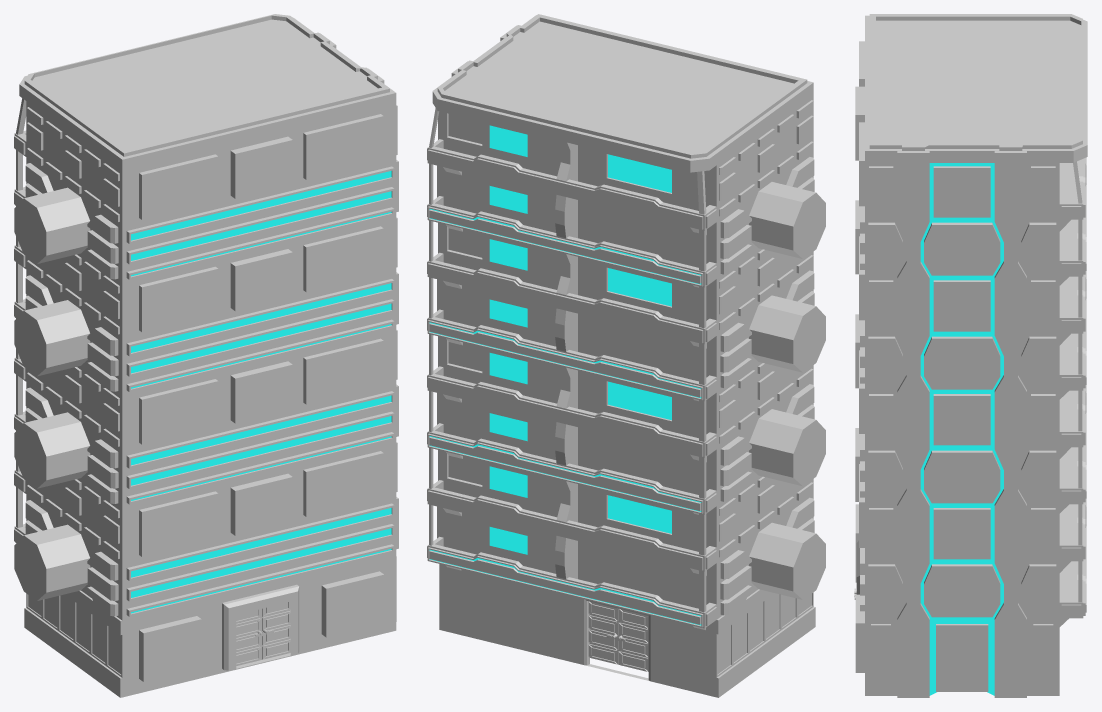
Rendered from building3.glb.
3 renders of one model, left to right at view 1: azimuth 30°, elevation 25°; view 2: azimuth 150°, elevation 25°; view 3: azimuth 270°, elevation 25°, orthographic.
Visible parts, largest first — view 1: Cube.040; view 2: Cube.040; view 3: Cube.040.
Boxes of the visible parts, <box> form: Cube.040: <box>14,14,398,697</box>; Cube.040: <box>427,14,825,697</box>; Cube.040: <box>854,14,1087,697</box>.
Size of the model in its own units: 23.73 by 38.11 by 14.69.
